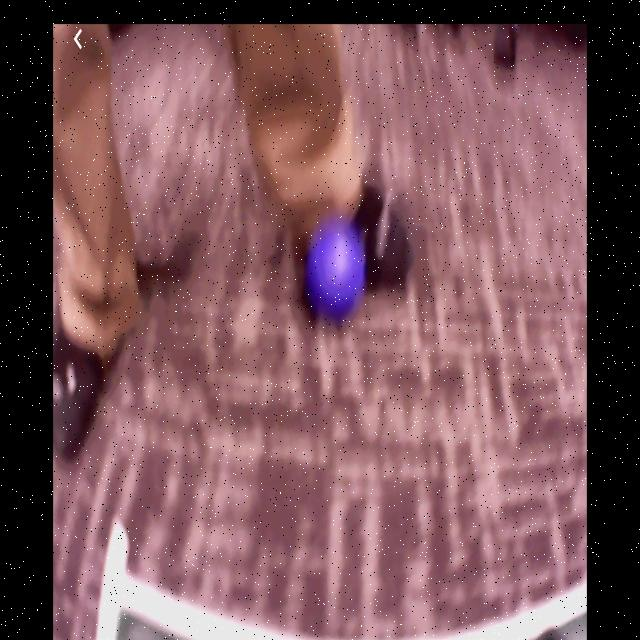ball: (308, 228, 364, 310)
